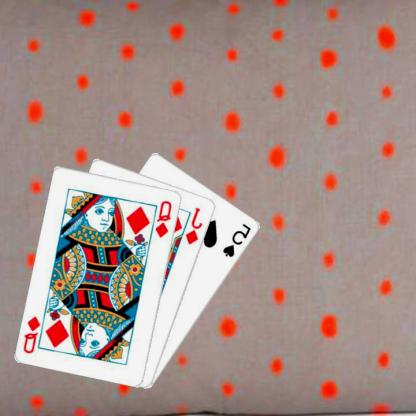5S: (222, 221, 254, 259)
JD: (185, 205, 206, 246)
QD: (22, 313, 43, 355), (155, 198, 175, 238)
